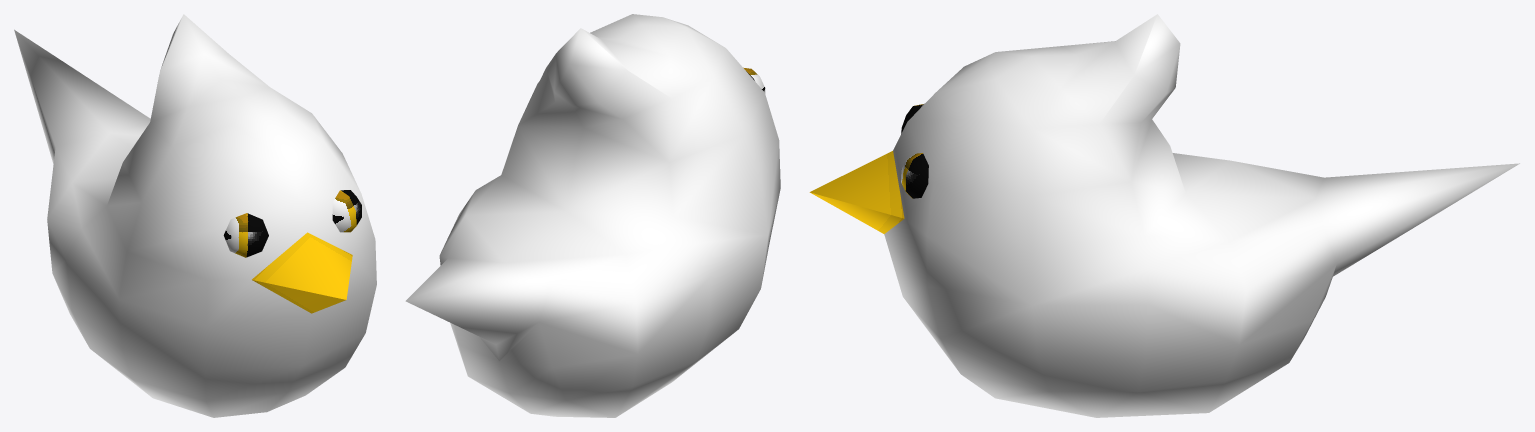
The model's file is centro.obj.
3 views of the same model, side by side, from view 1: azimuth 30°, elevation 25°; view 2: azimuth 150°, elevation 25°; view 3: azimuth 270°, elevation 25° (orthographic). The views are drawn at different scales.
Visible parts, largest first — view 1: Bird; view 2: Bird; view 3: Bird.
Part boxes in pixels (x1,y1,x2,y2): Bird: (14,14,376,417); Bird: (405,14,780,417); Bird: (809,14,1519,417).
Size of the model in its own units: 34.1 by 48.73 by 79.91.
Materials: 1 (1 with a texture image).
